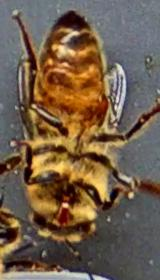varroa_mite: (89, 88, 109, 127)
